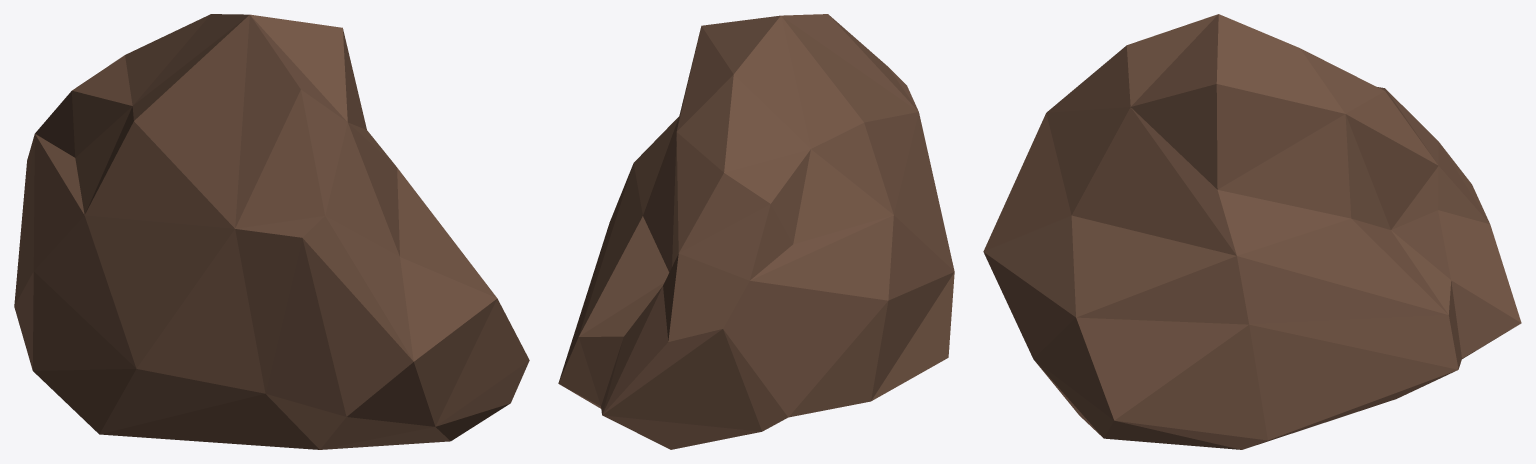
The model's file is medium_rock2.glb.
The picture shows the model from 3 angles, left to right: view 1: azimuth 30°, elevation 25°; view 2: azimuth 150°, elevation 25°; view 3: azimuth 270°, elevation 25°; orthographic projection. The views are drawn at different scales.
Visible parts, largest first — view 1: medium_rock2; view 2: medium_rock2; view 3: medium_rock2.
Boxes of the visible parts, box(x1,y1,x2,y2) form: medium_rock2: box(14, 14, 529, 449); medium_rock2: box(558, 14, 954, 449); medium_rock2: box(983, 14, 1521, 449).
Bounding box in the file's own units: 2.5 × 2.62 × 3.39.
